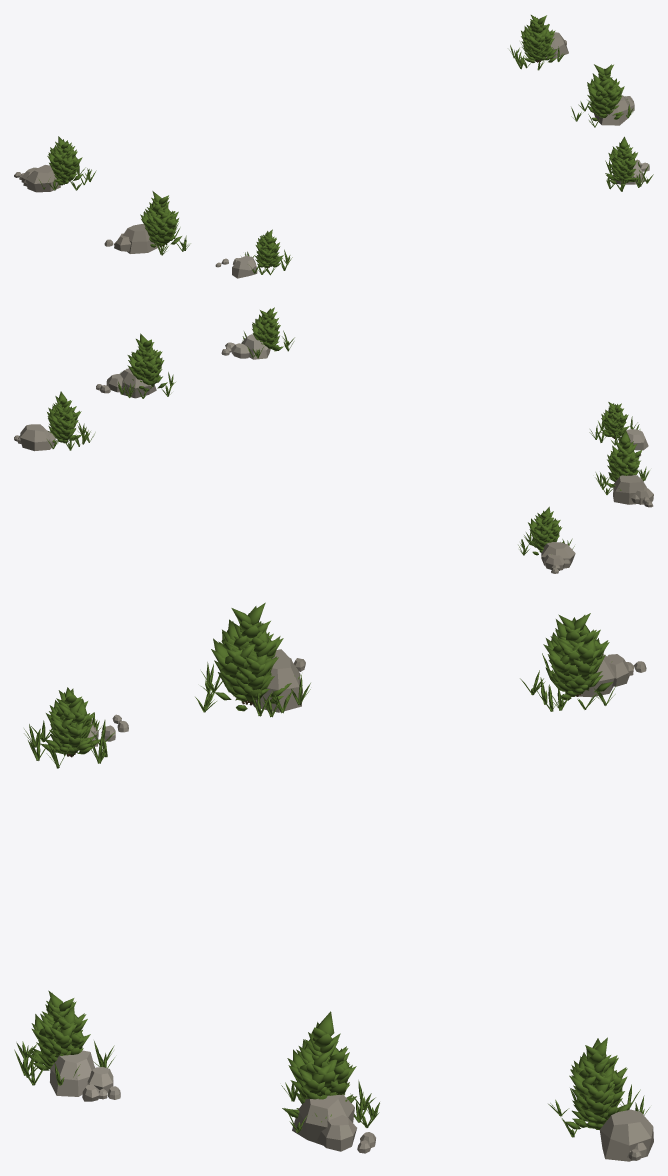
The model's file is BastionEnvironment72.glb.
3 views of the same model, one above another, from view 1: azimuth 30°, elevation 25°; view 2: azimuth 150°, elevation 25°; view 3: azimuth 270°, elevation 25° (orthographic). The views are drawn at different scales.
Parts seen in each view (by area): view 1: Bastion_Environment72; view 2: Bastion_Environment72; view 3: Bastion_Environment72.
Part boxes in pixels (x1,y1,x2,y2): Bastion_Environment72: [14, 15, 653, 278]; Bastion_Environment72: [14, 307, 653, 573]; Bastion_Environment72: [14, 602, 653, 1161].
Bounding box in the file's own units: 25.65 × 2.59 × 13.97.
